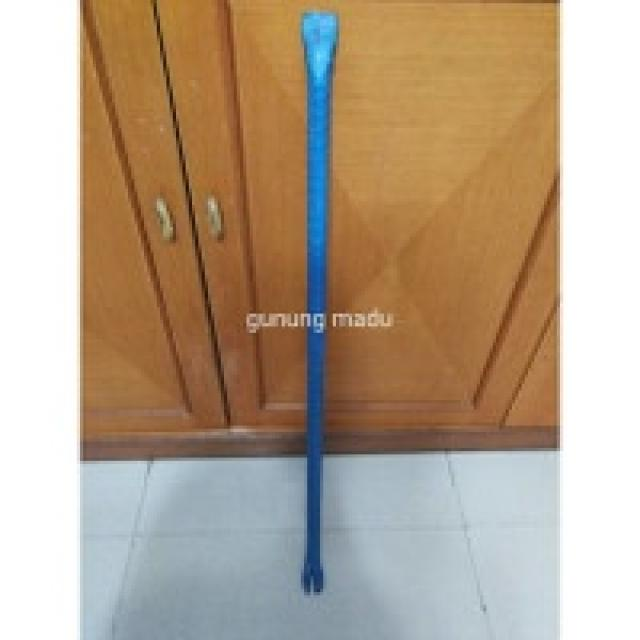Linggis: (302, 7, 344, 596)
